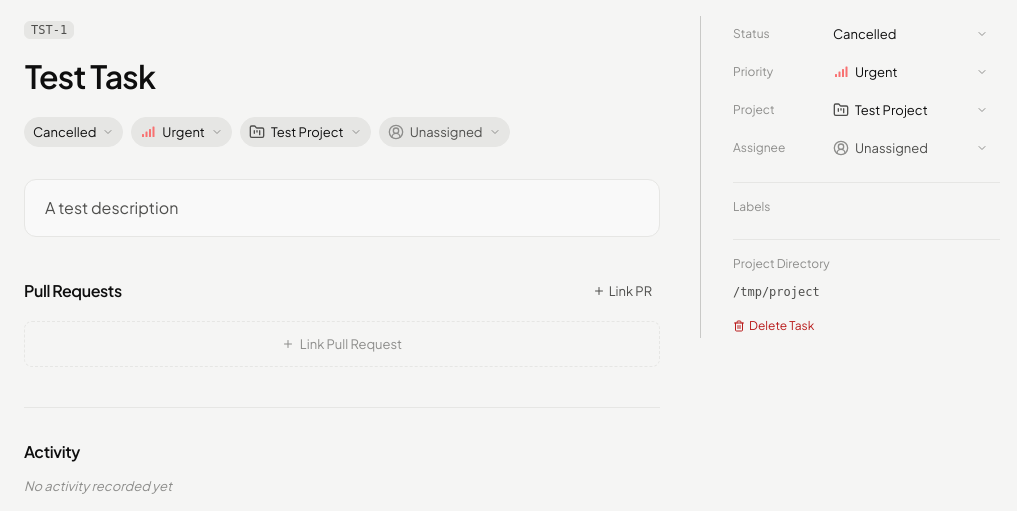
TaskDetail › inline editing › cancels title edit on Escape without saving
Step 1. Click the button "Test Task" → {"x": 90, "y": 76}, box [25,56,155,96]
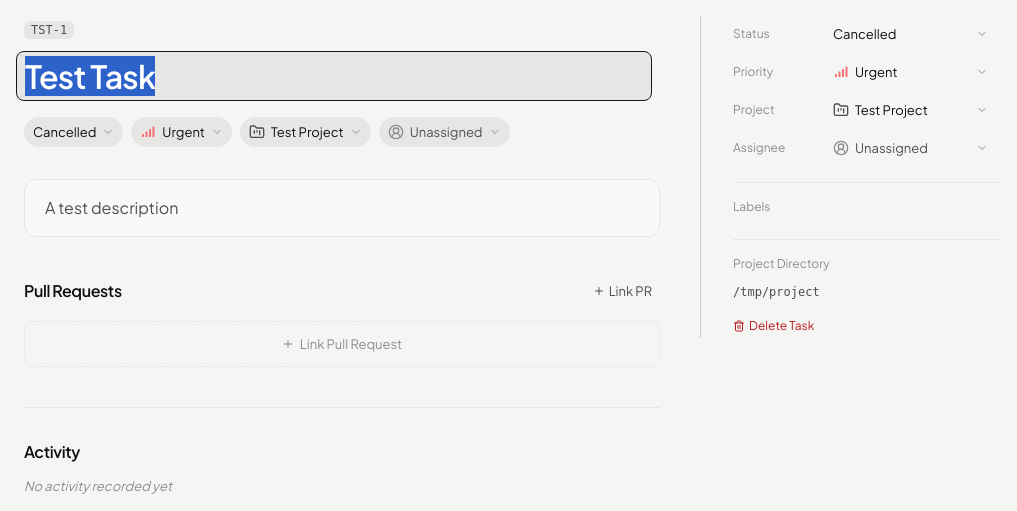
Step 2. Replace the text in the field showing "Test Task" with "Changed" → {"x": 334, "y": 76}, box [16,51,652,101]
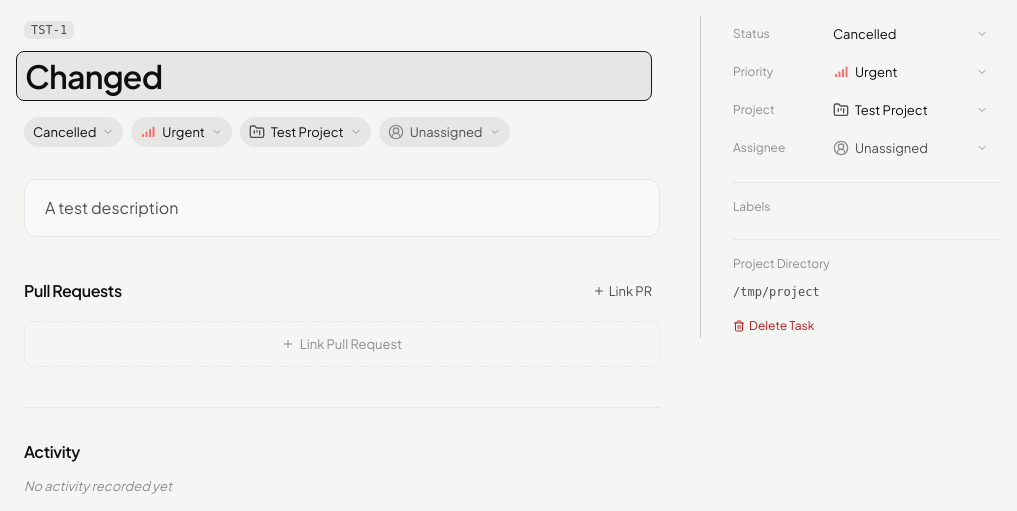
Step 3. Press Escape in the field showing "Test Task", box [16,51,652,101]
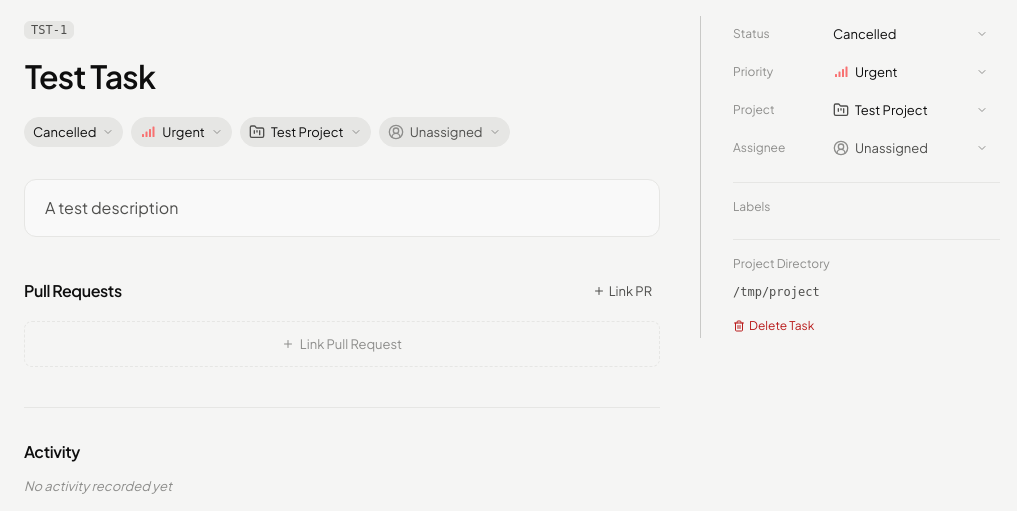
expect the button "Test Task" is shown: met, box [25,56,155,96]
